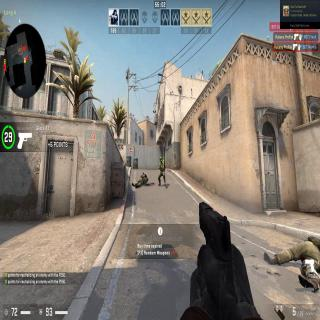CT-Body: (157, 156, 165, 182)
CT-Head: (158, 156, 162, 160)
